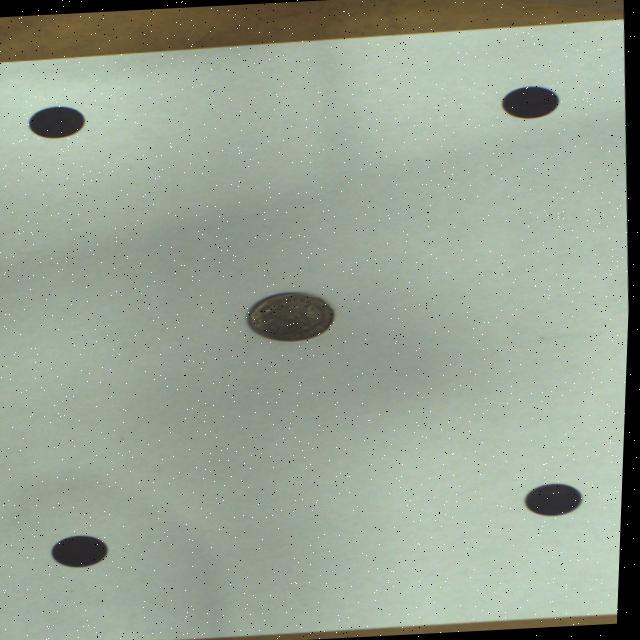space: (30, 105, 86, 138), (529, 483, 586, 515), (504, 86, 560, 118), (57, 534, 113, 566)
tail5bath: (251, 291, 335, 340)
